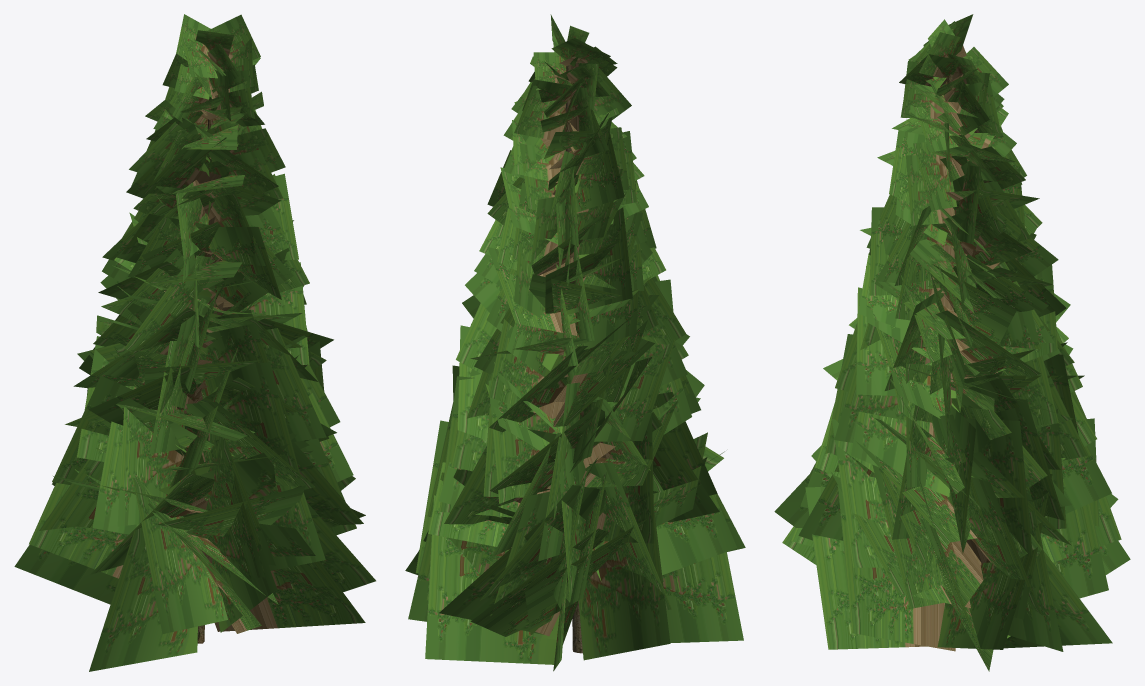
Rendered from pine-optimized.glb.
The picture shows the model from 3 angles, left to right: view 1: azimuth 30°, elevation 25°; view 2: azimuth 150°, elevation 25°; view 3: azimuth 270°, elevation 25°; orthographic projection.
Visible parts, largest first — view 1: Object_5; view 2: Object_5, Object_4; view 3: Object_5.
Boxes of the visible parts, left/top/right/bottom form: Object_5: left=14, top=14, right=375, bottom=671; Object_5: left=405, top=14, right=745, bottom=671; Object_4: left=565, top=65, right=582, bottom=653; Object_5: left=774, top=14, right=1130, bottom=671.
Size of the model in its own units: 0.7847 by 1.64 by 0.8422.
Materials: 2 (2 with a texture image).
